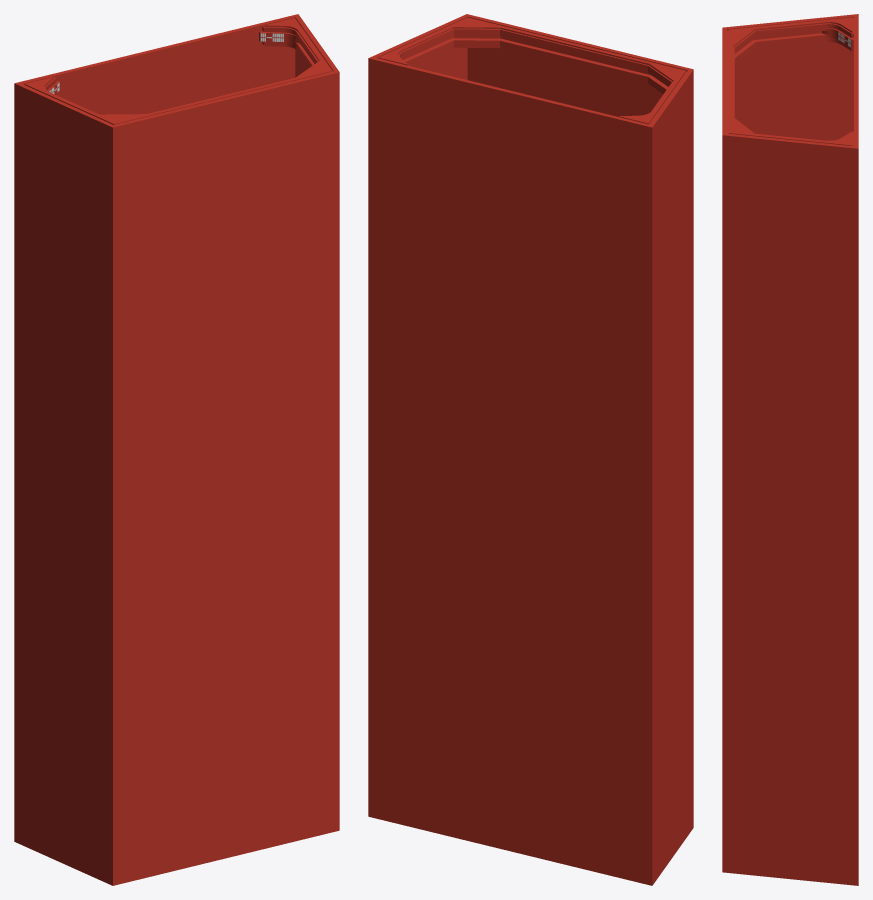
Rendered from la_Raza_hallway_wide v1.fbx.
3 views of the same model, side by side, from view 1: azimuth 30°, elevation 25°; view 2: azimuth 150°, elevation 25°; view 3: azimuth 270°, elevation 25° (orthographic). The views are drawn at different scales.
Parts seen in each view (by area): view 1: Body21; view 2: Body21; view 3: Body21.
Boxes of the visible parts, bbox=[...] form: Body21: bbox=[14, 14, 339, 885]; Body21: bbox=[368, 14, 693, 885]; Body21: bbox=[722, 14, 858, 885].
Bounding box in the file's own units: 202 × 514 × 86.06.
